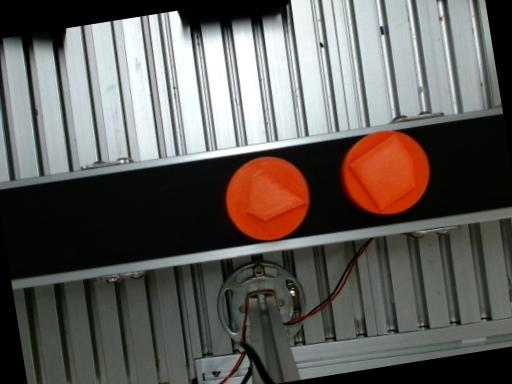Not_Square: (347, 130, 417, 211), (245, 168, 308, 222)
Orange_Waper: (340, 130, 430, 214), (226, 156, 309, 240)
